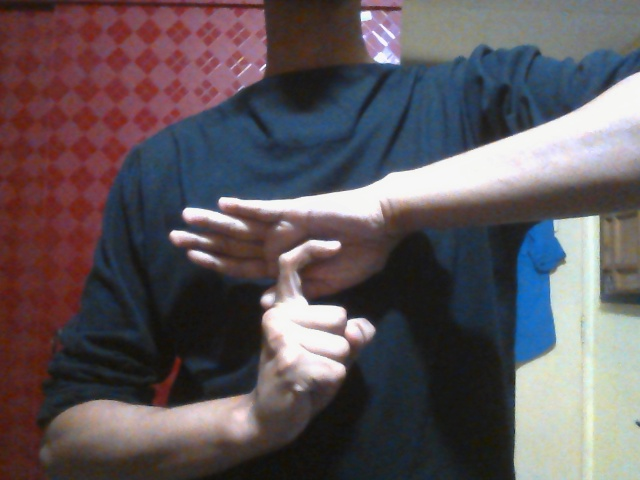R: (167, 189, 402, 440)
